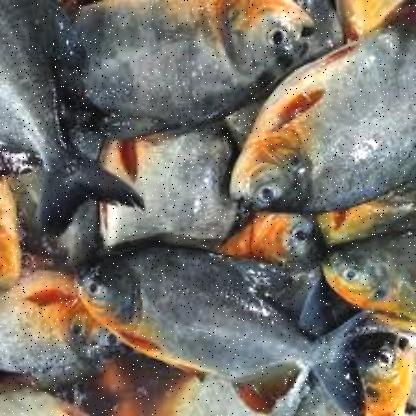ikan-pacu: (74, 240, 364, 406), (225, 20, 415, 212), (74, 0, 310, 126), (329, 226, 415, 312)
